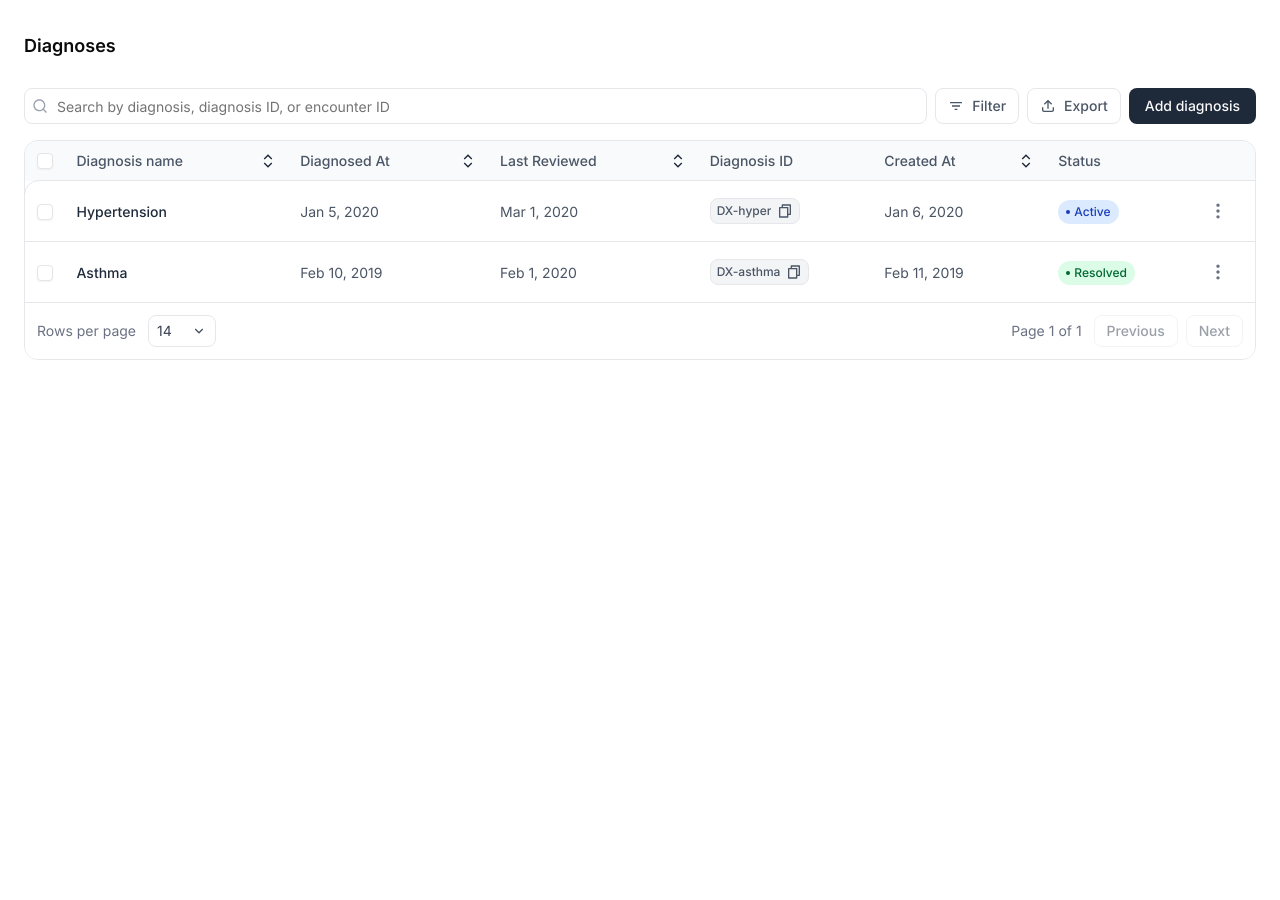
Test: Diagnoses table › saves edits from the details drawer and shows the saved diagnosis
Click the button named "Open actions for Asthma" at x=1218, y=272, box [1200,254,1236,290]
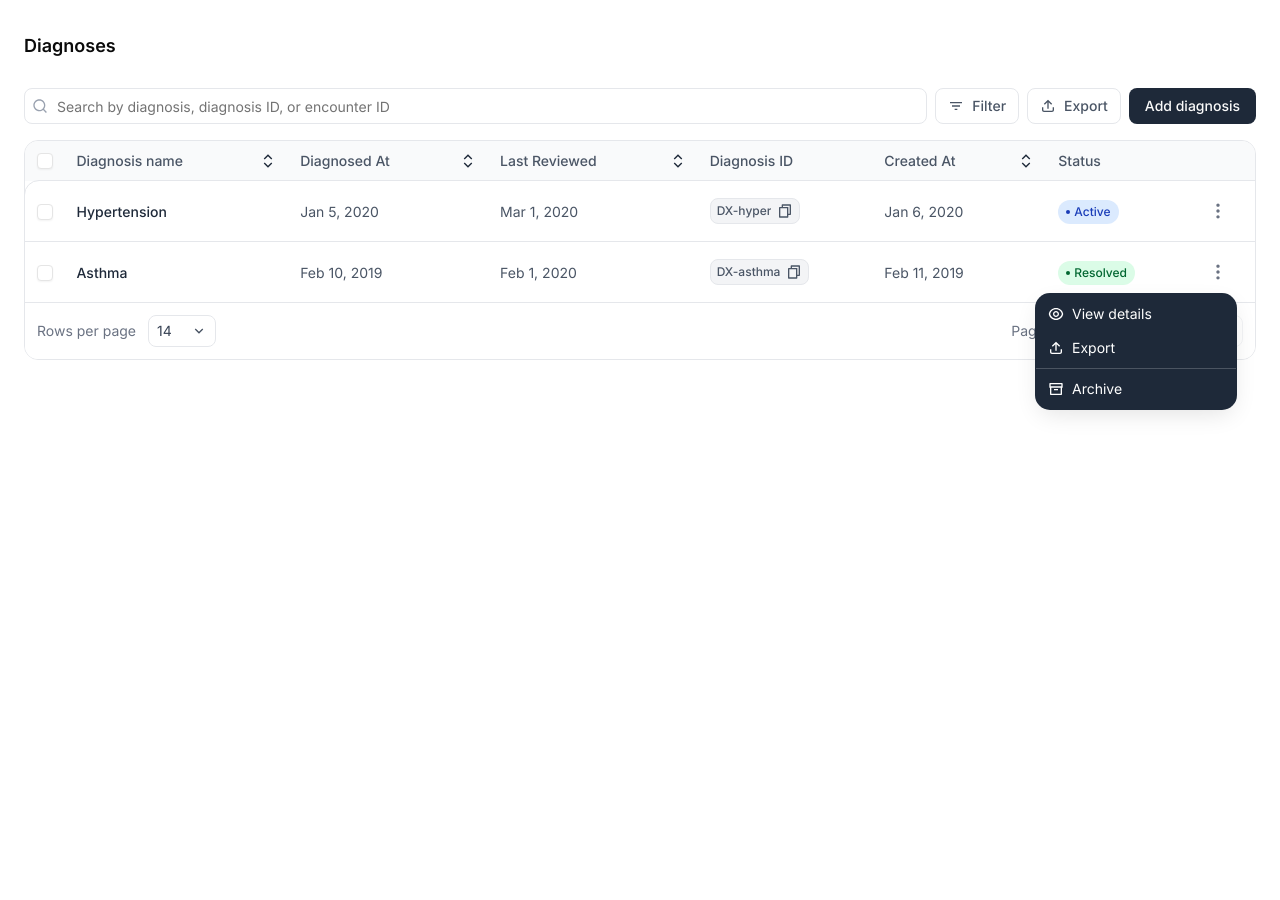
Click the menu item "View details" at x=1100, y=314, box [1048,305,1152,322]
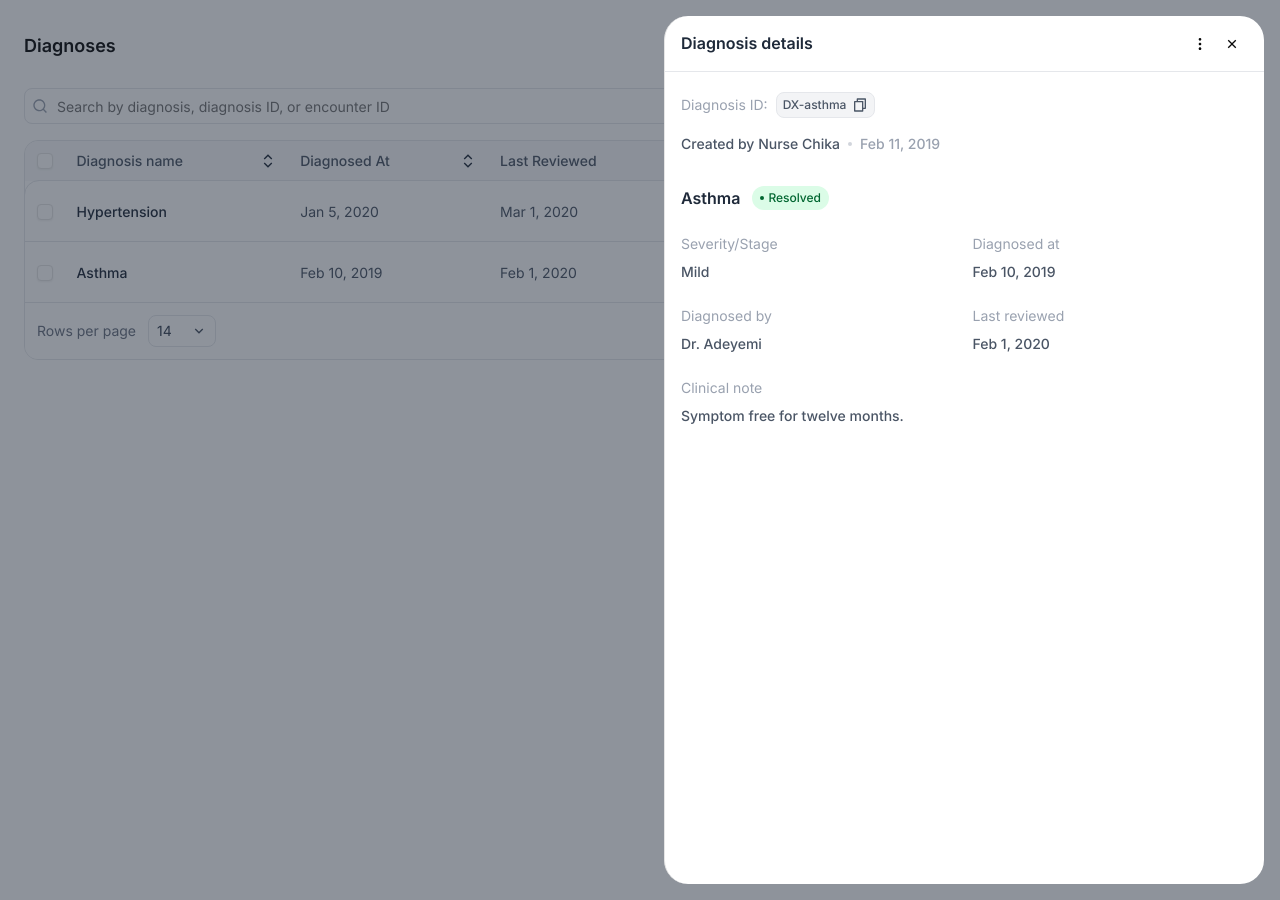
Expected: the heading "Asthma" is shown, [681,186,740,210]
Click the button named "Diagnosis actions" at x=1200, y=44, box [1184,28,1216,60]
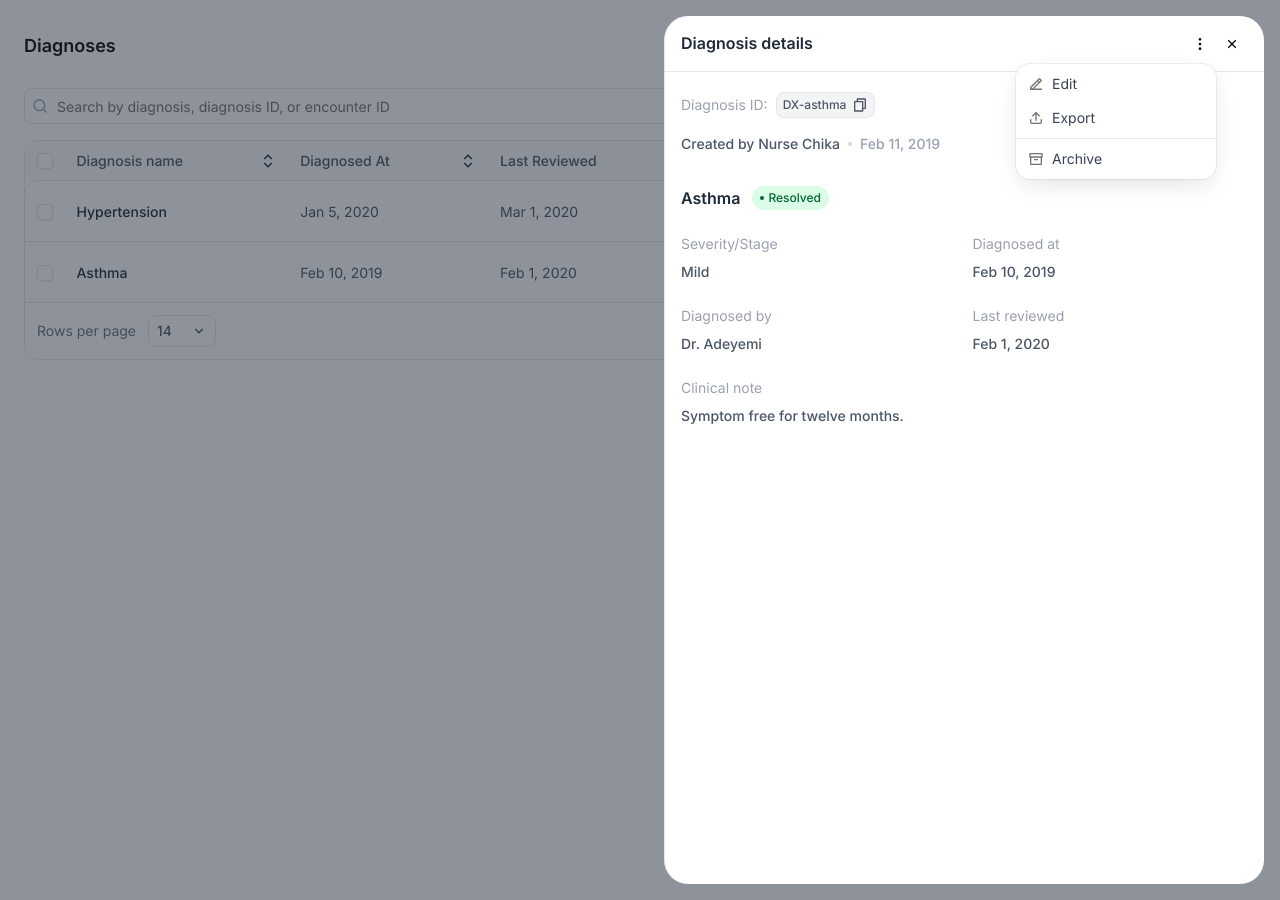
Click the menu item "Edit" at x=1052, y=84, box [1028,75,1077,92]
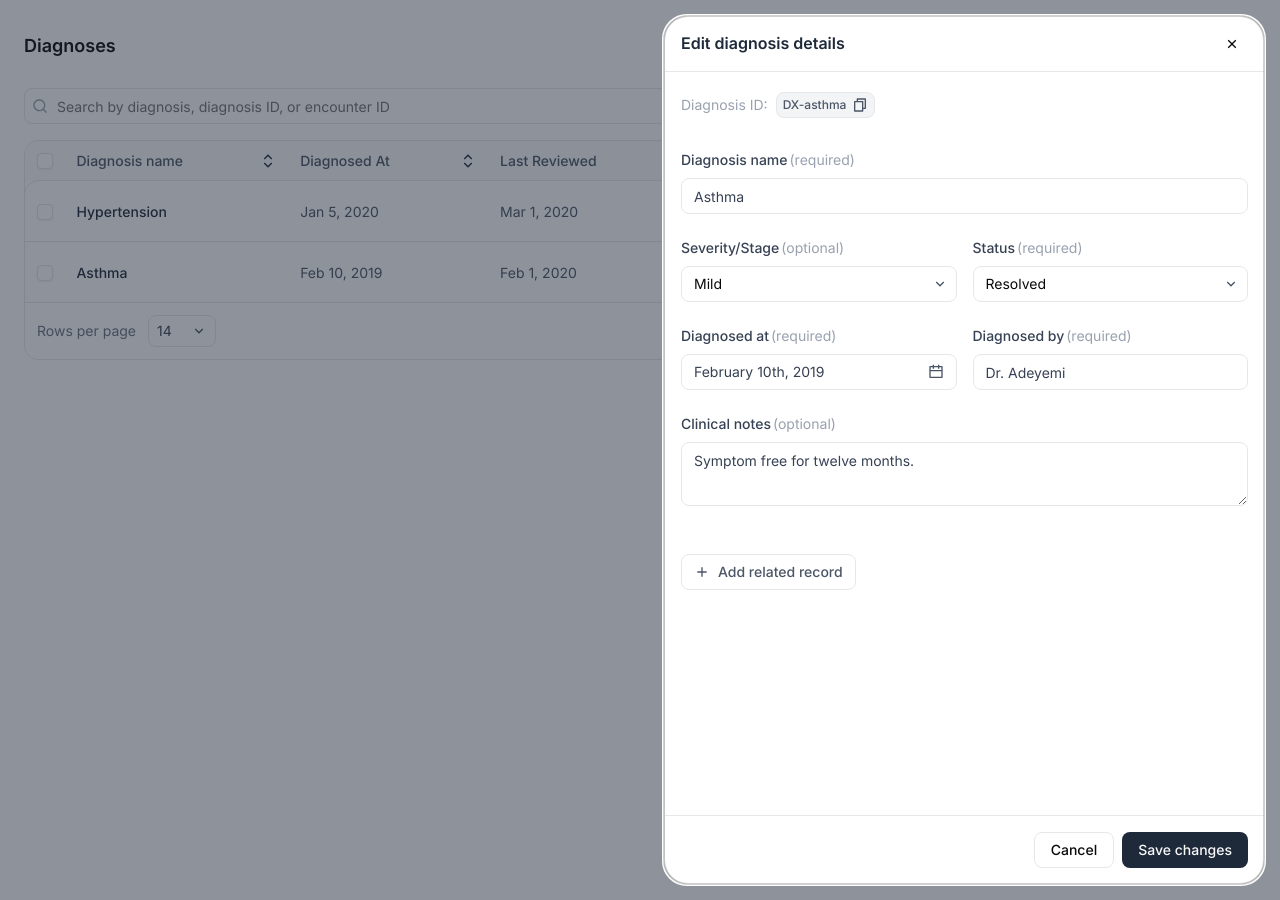
Expected: the field labelled "Diagnosis name (required)" holds "Asthma"
Expected: the field labelled "Diagnosed by (required)" holds "Dr. Adeyemi", [972,354,1248,390]
Expected: the text box labelled "Clinical notes (optional)" holds "Symptom free for twelve months.", [681,442,1248,506]
Replace the text in the field labelled "Diagnosis name (required)" with "Childhood asthma" at x=964, y=196, box [681,178,1248,214]
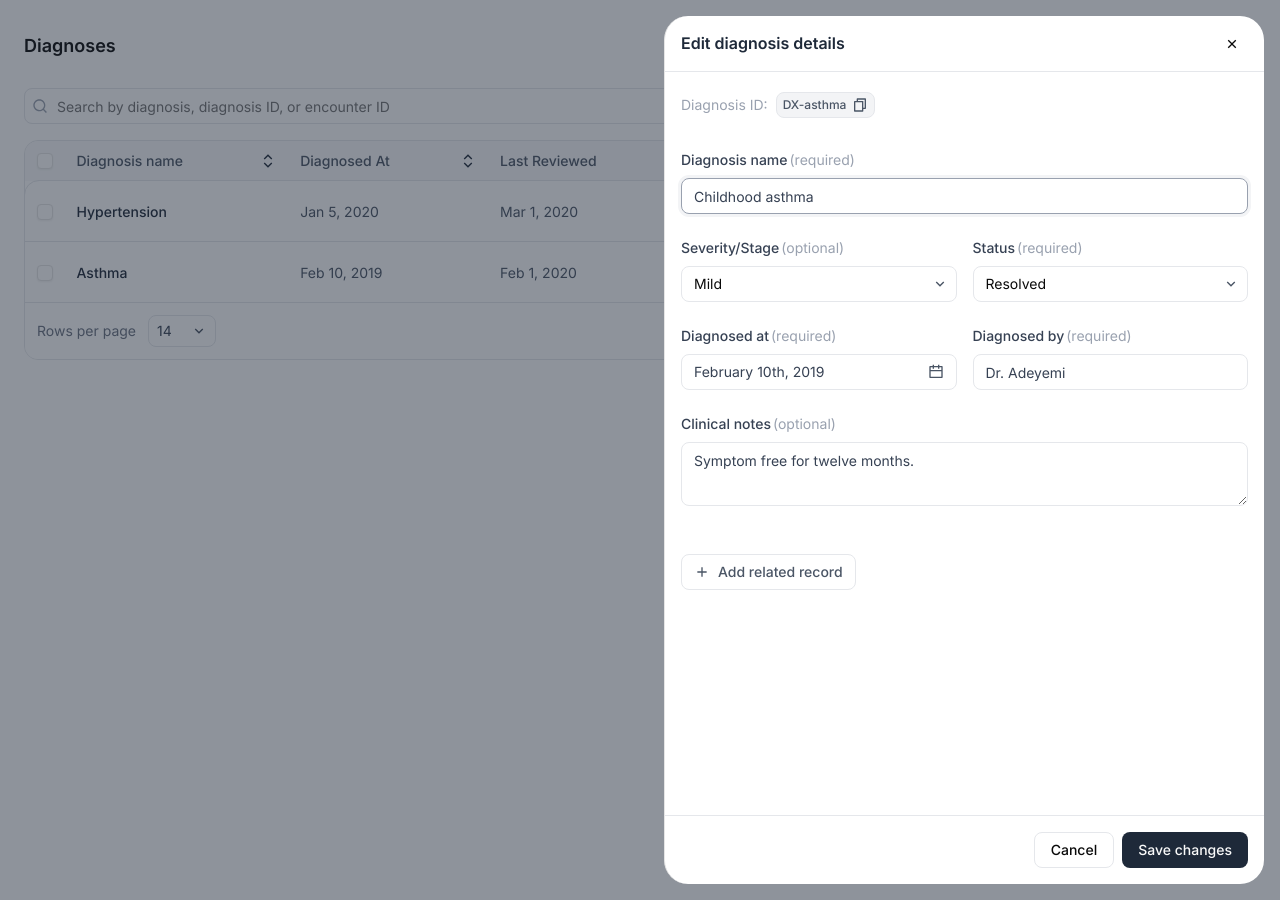
Click the button "Save changes" at x=1185, y=850, box [1122,832,1248,868]
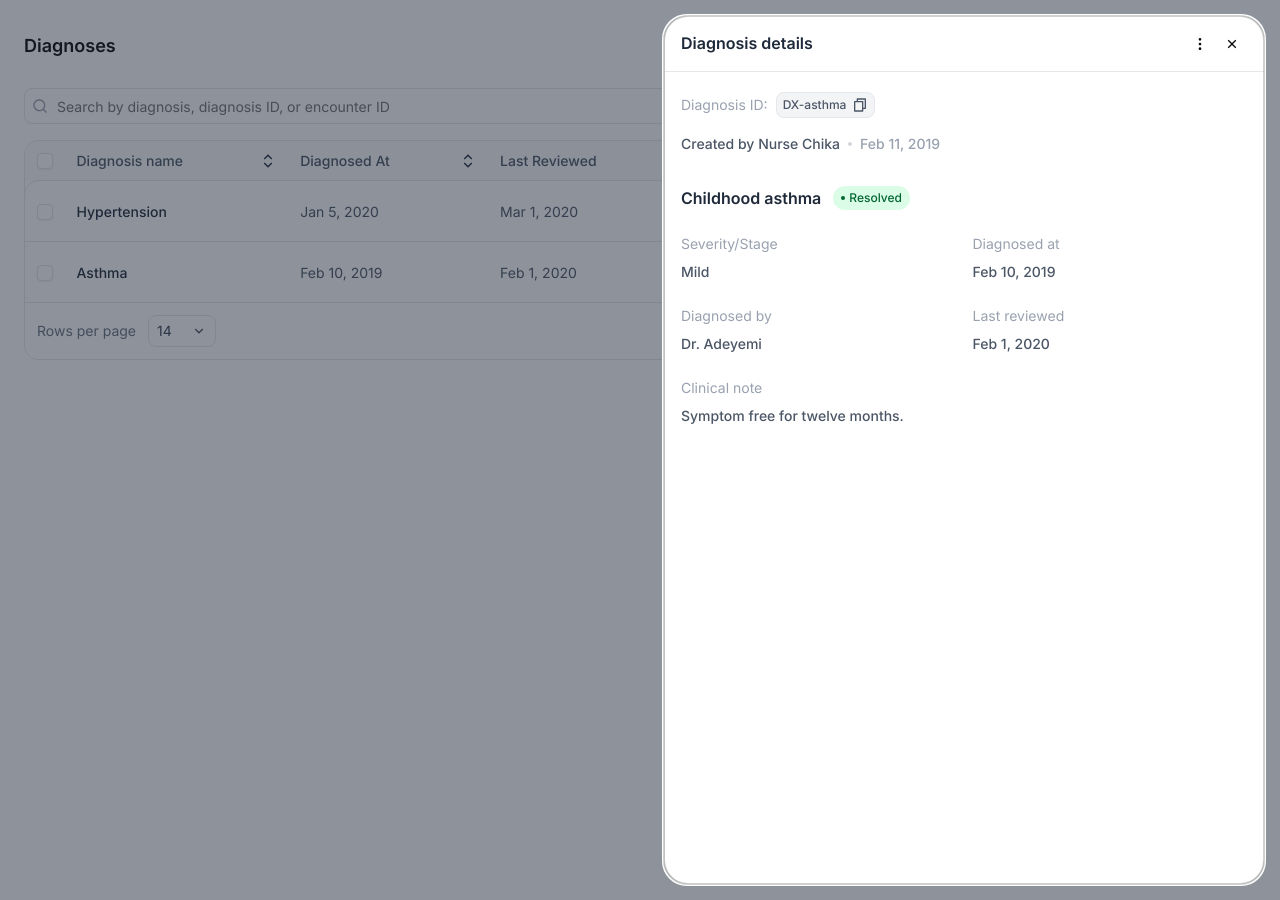
Expected: the heading "Childhood asthma" is shown, [681,186,821,210]
